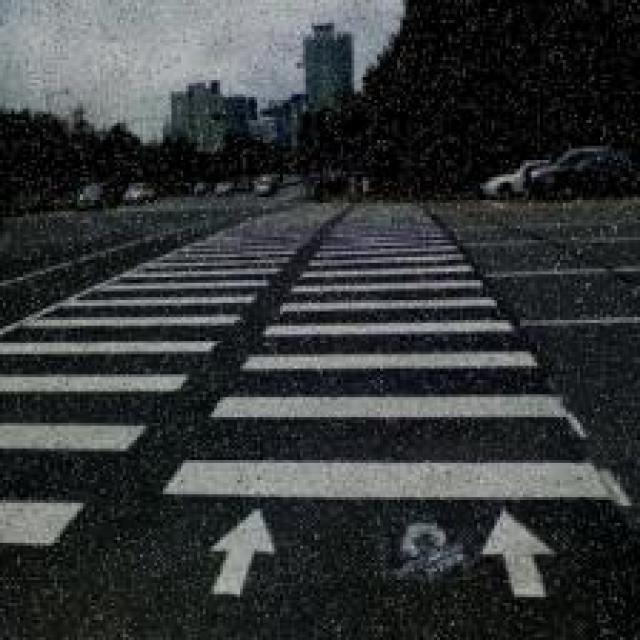crosswalk: (6, 188, 622, 532)
